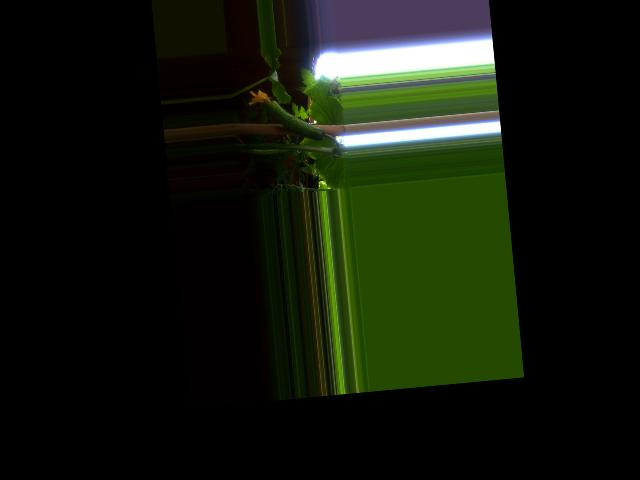cucumber: (246, 83, 325, 146)
